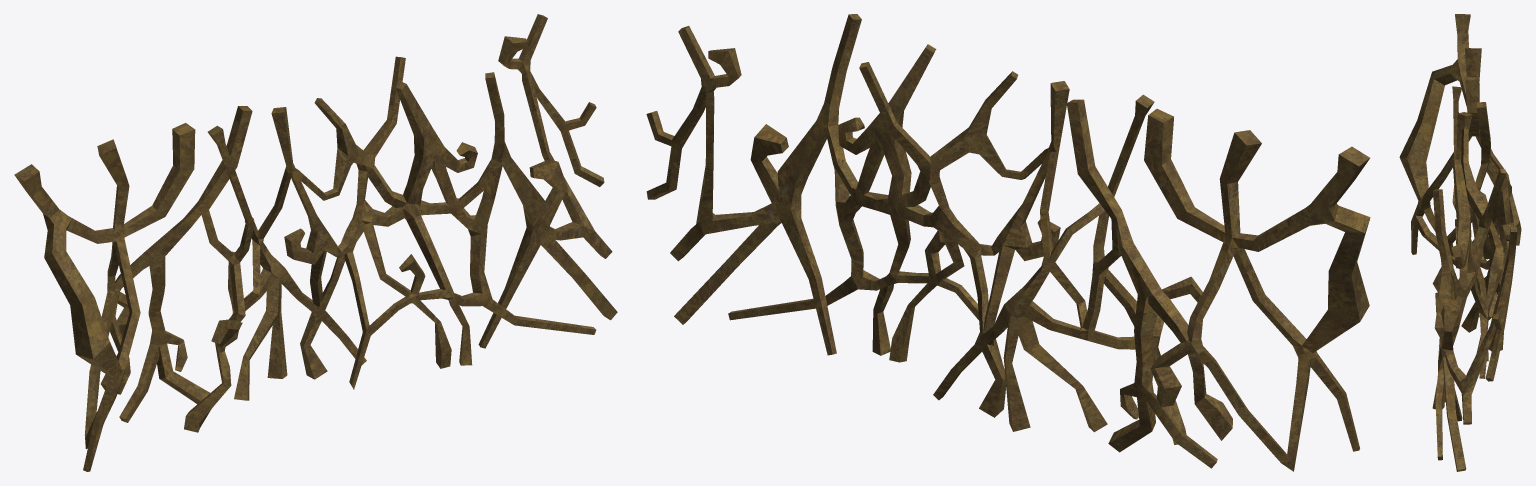
The model's file is mg_12__fence_0.fbx.
3 views of the same model, side by side, from view 1: azimuth 30°, elevation 25°; view 2: azimuth 150°, elevation 25°; view 3: azimuth 270°, elevation 25° (orthographic). The views are drawn at different scales.
Visible parts, largest first — view 1: mg_12__fence_0; view 2: mg_12__fence_0; view 3: mg_12__fence_0.
Boxes of the visible parts, x1=… form: mg_12__fence_0: x1=14, y1=14, x2=617, y2=471; mg_12__fence_0: x1=646, y1=14, x2=1370, y2=471; mg_12__fence_0: x1=1399, y1=14, x2=1521, y2=471.
Size of the model in its own units: 349 by 163 by 76.17.
